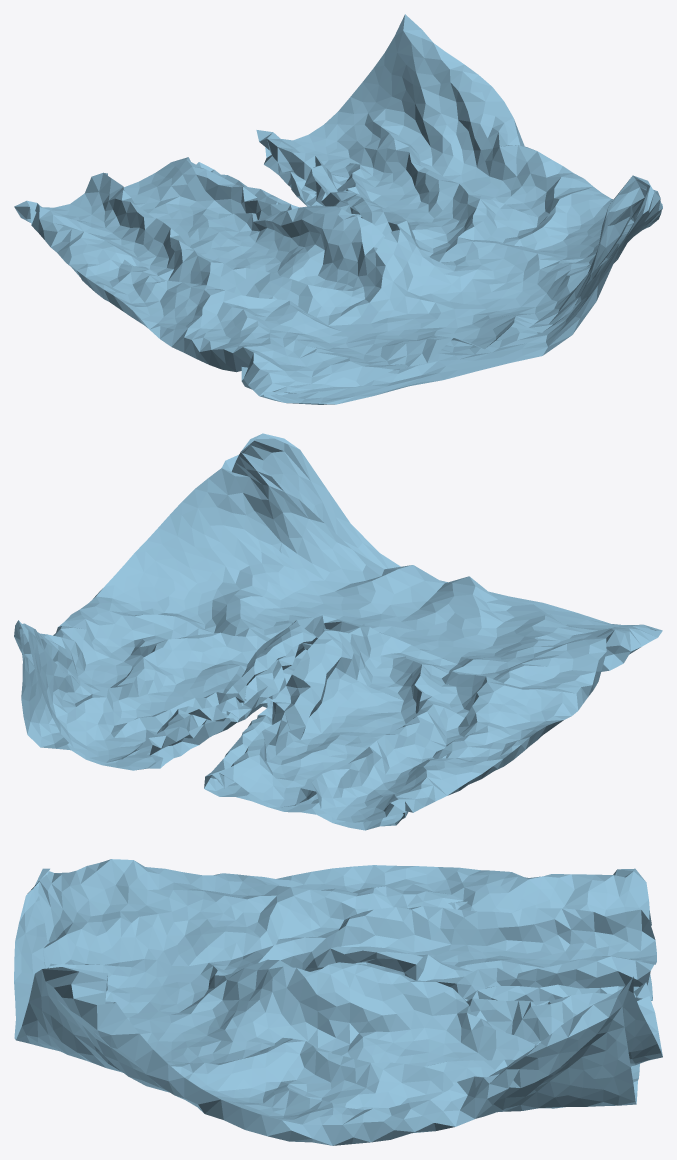
The model's file is frame_04.glb.
3 renders of one model, top to bottom at view 1: azimuth 30°, elevation 25°; view 2: azimuth 150°, elevation 25°; view 3: azimuth 270°, elevation 25°, orthographic. The views are drawn at different scales.
Visible parts, largest first — view 1: frame_04.obj; view 2: frame_04.obj; view 3: frame_04.obj.
Part boxes in pixels (box(x1,y1,x2,y2)): frame_04.obj: box(14, 14, 662, 404); frame_04.obj: box(14, 433, 662, 830); frame_04.obj: box(14, 859, 662, 1145).
Size of the model in its own units: 1.47 by 0.397 by 1.5.
